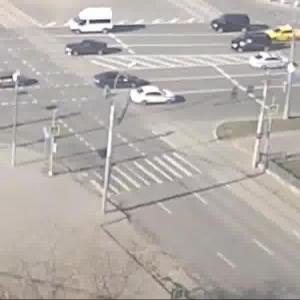car: (67, 6, 119, 36), (211, 5, 257, 34), (97, 67, 146, 90), (231, 29, 270, 54), (64, 38, 108, 60), (252, 52, 295, 73), (133, 84, 174, 106), (263, 19, 300, 42), (1, 67, 32, 84)
